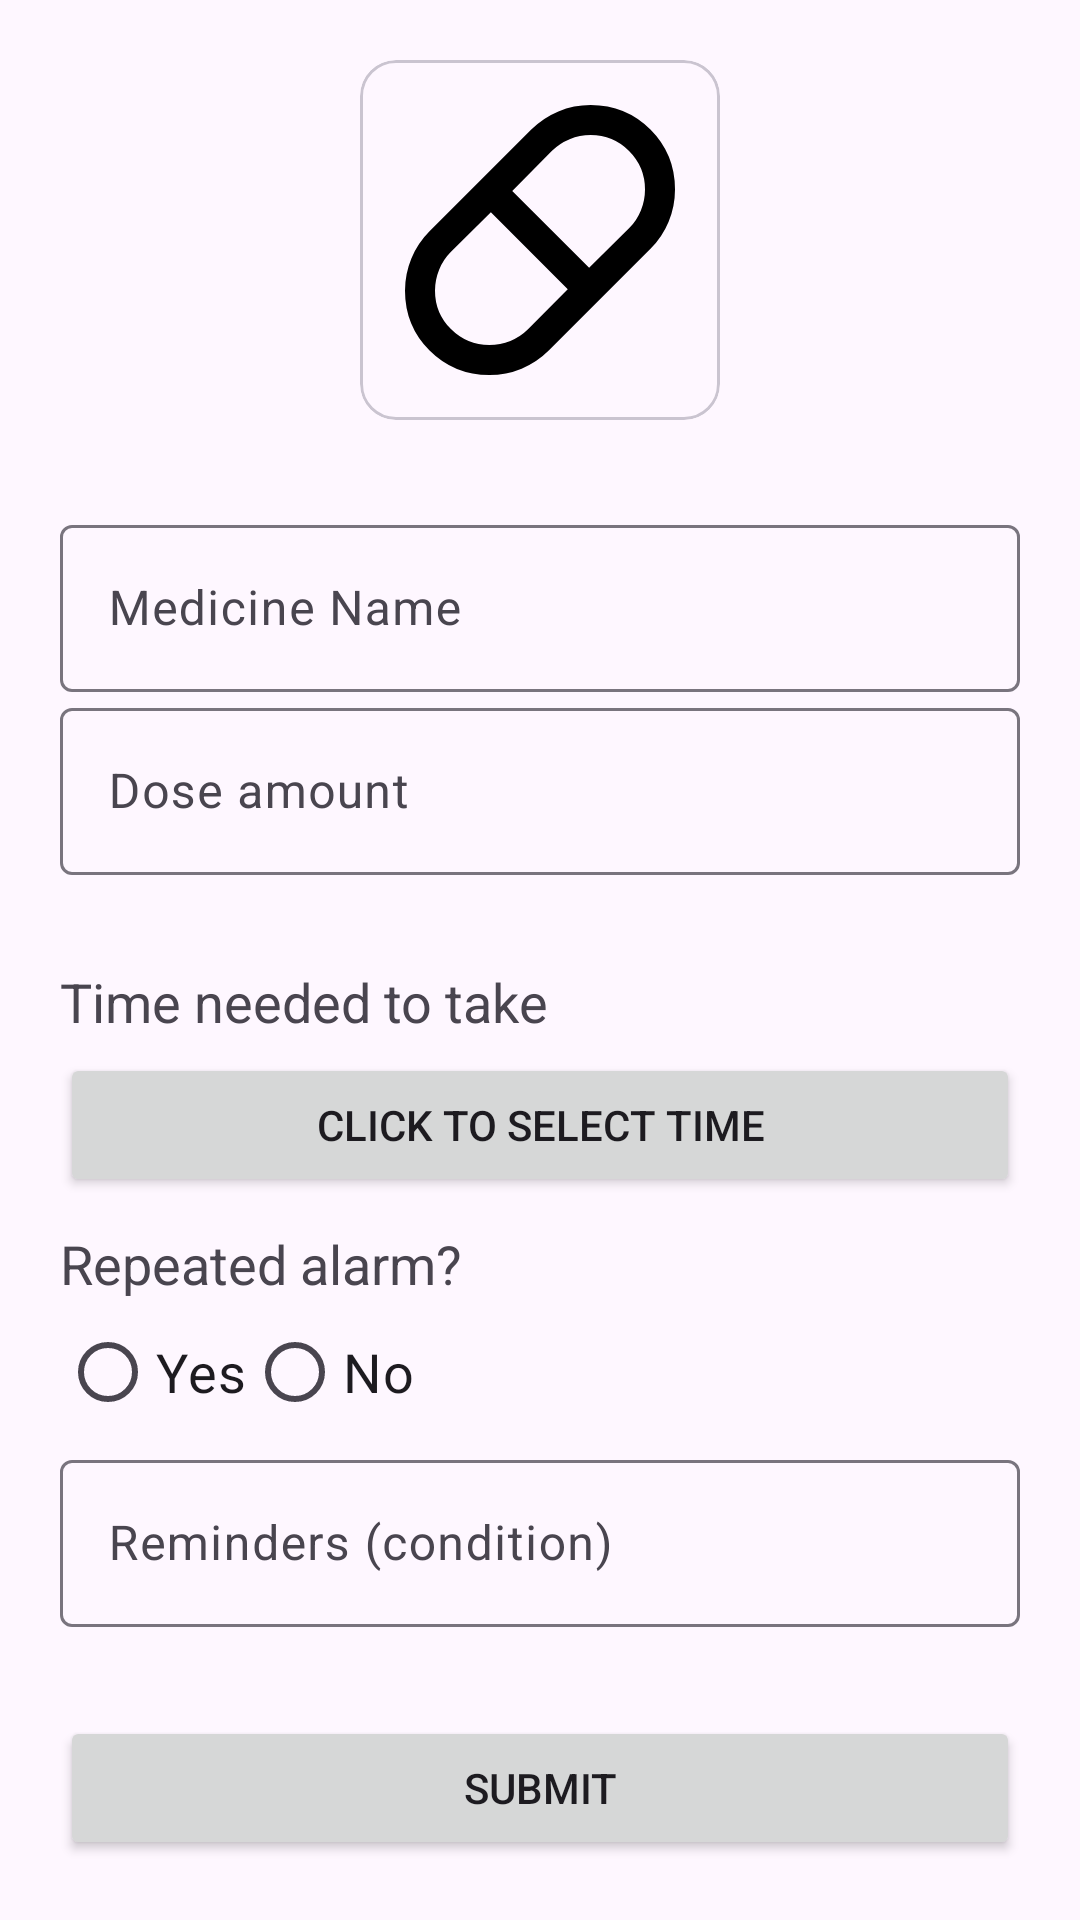

Icon bounding boxes for this 1080 x 1920 phone screenshot, format (x1, y1, x2, y2):
pill: (360, 60, 720, 420)
